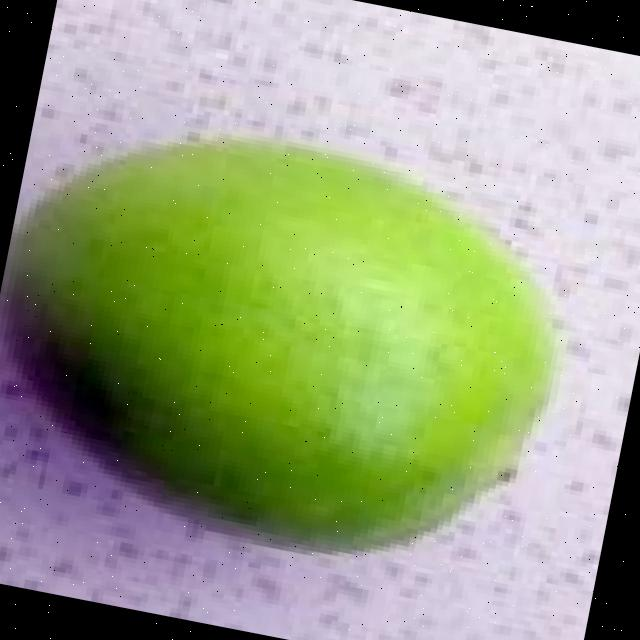Good_Lime-10-21-days: (0, 131, 565, 554)
